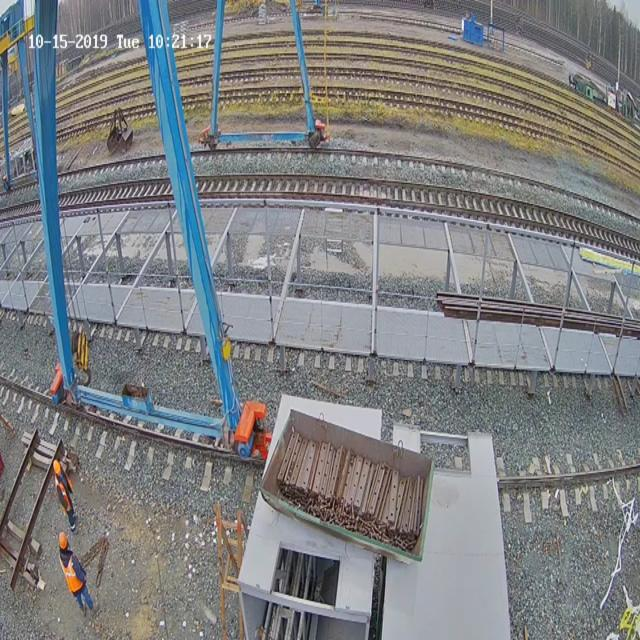Helmet: (58, 531, 68, 550), (53, 460, 61, 476)
Person: (58, 531, 94, 617), (53, 458, 77, 533)
